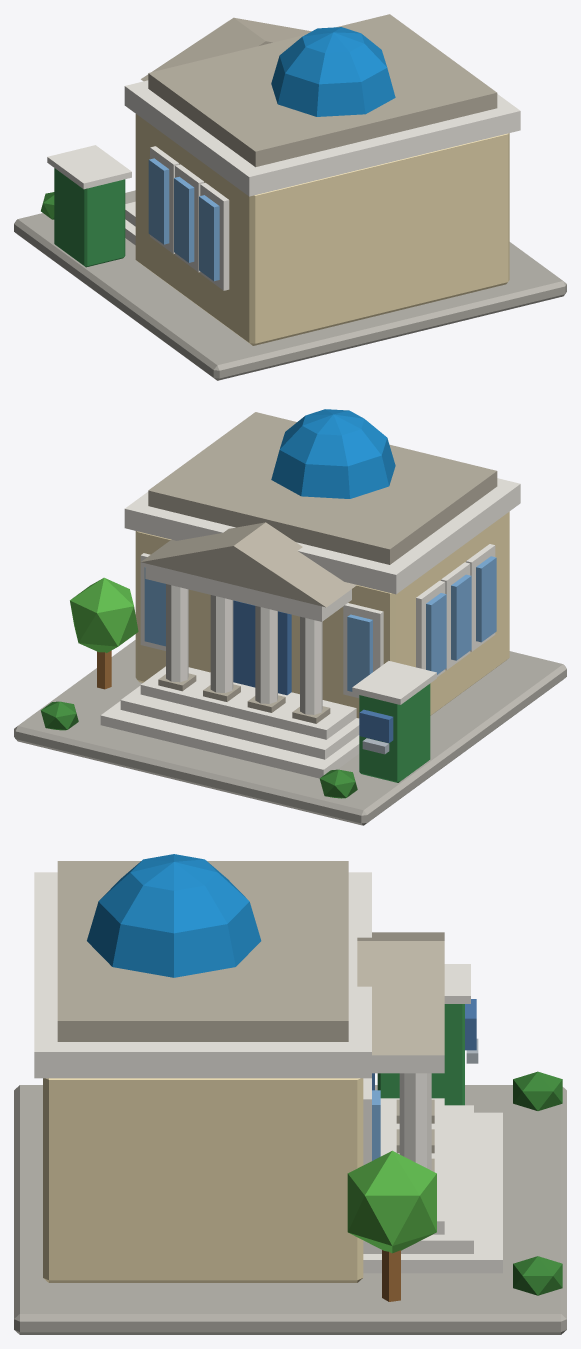
File: kit-cidade-banco.glb
3 views of the same model, one above another, from view 1: azimuth 30°, elevation 25°; view 2: azimuth 150°, elevation 25°; view 3: azimuth 270°, elevation 25° (orthographic). The views are drawn at different scales.
Parts seen in each view (by area): view 1: corpo; view 2: corpo; view 3: corpo.
Boxes of the visible parts, x1=… form: corpo: x1=14, y1=14, x2=566, y2=380; corpo: x1=14, y1=409, x2=566, y2=825; corpo: x1=14, y1=854, x2=566, y2=1334.
Bounding box in the file's own units: 1.91 × 1.36 × 1.9.
